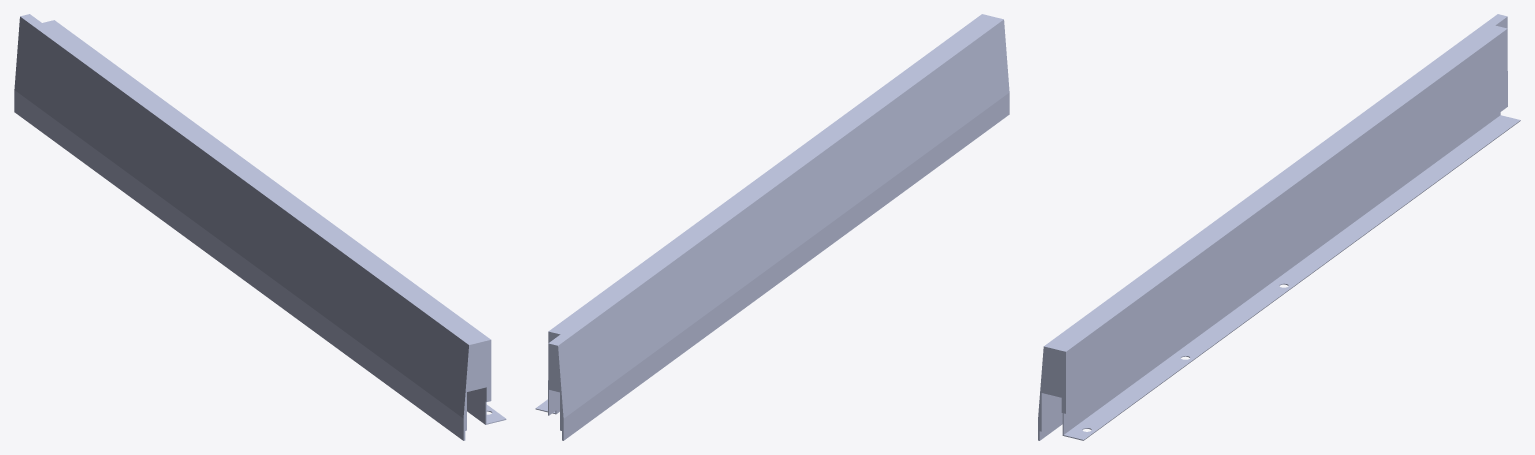
File: mv-kava-N600-p.glb
3 renders of one model, left to right at view 1: azimuth 30°, elevation 25°; view 2: azimuth 150°, elevation 25°; view 3: azimuth 330°, elevation 25°, orthographic.
Visible parts, largest first — view 1: 48366699; view 2: 48366699; view 3: 48366699.
Part boxes in pixels (<box>): 48366699: <box>14,14,506,440</box>; 48366699: <box>535,14,1009,440</box>; 48366699: <box>1038,14,1520,440</box>.
Size of the model in its own units: 0.0335 by 0.0685 by 0.5902.
